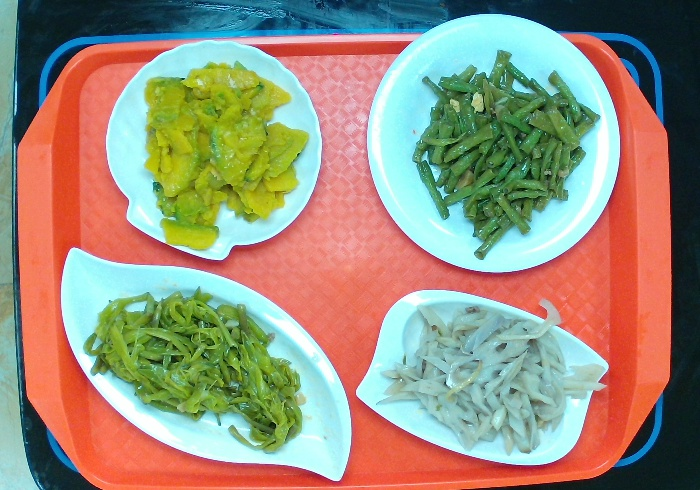RJxy-Bei_Ke_Wan: (104, 37, 323, 265)
RJxy-Jian_Jiao_Fang_Die: (352, 287, 610, 468)
RJxy-Jian_Jiao_Pan: (58, 242, 354, 483)
RJxy-Yuan_Pan: (365, 12, 621, 277)
